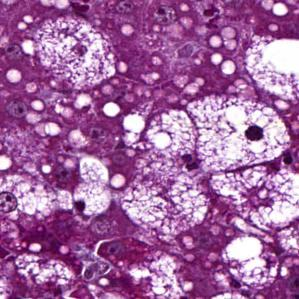ballooning: (187, 96, 291, 177), (34, 14, 119, 92), (210, 165, 295, 233)
